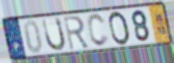0: (23, 19, 44, 55)
8: (131, 9, 152, 43)
C: (86, 13, 111, 48)
O: (108, 10, 132, 47)
R: (62, 15, 91, 52)
U: (41, 16, 67, 53)
